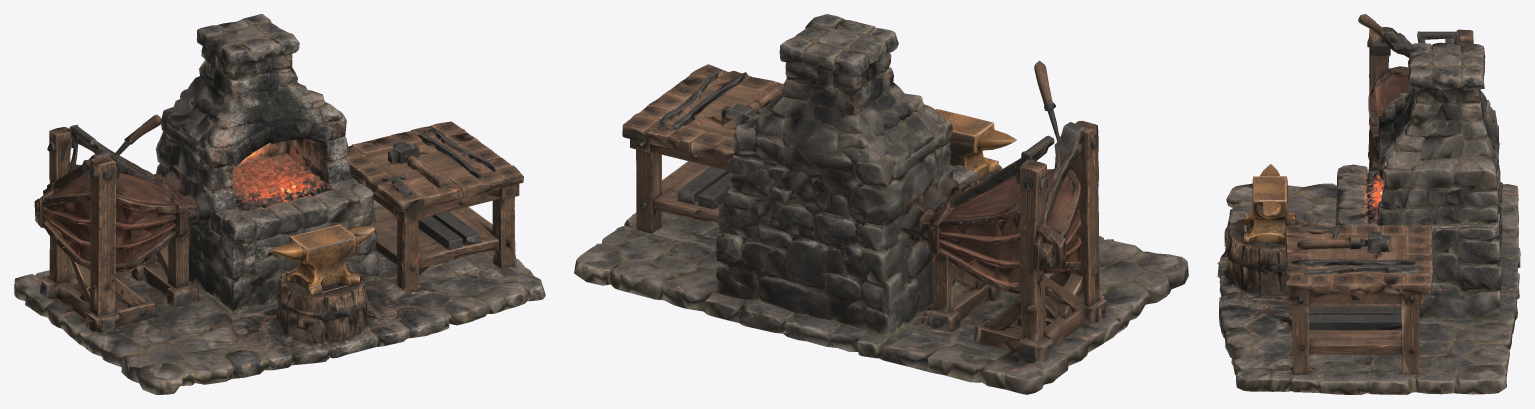
Rendered from improved_smithy.glb.
3 views of the same model, side by side, from view 1: azimuth 30°, elevation 25°; view 2: azimuth 150°, elevation 25°; view 3: azimuth 270°, elevation 25° (orthographic). The views are drawn at different scales.
Parts seen in each view (by area): view 1: Smithy; view 2: Smithy; view 3: Smithy.
Boxes of the visible parts, x1,y1,x2,y2 form: Smithy: (14,14,545,394); Smithy: (574,14,1188,394); Smithy: (1217,14,1520,394).
Bounding box in the file's own units: 3 × 1.65 × 1.92.
1 material, 1 textured.
